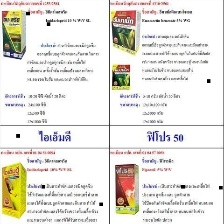book: (106, 6, 142, 57)
carton: (110, 160, 140, 217), (0, 161, 28, 220), (0, 7, 28, 64)
insecticide: (110, 61, 132, 93)
